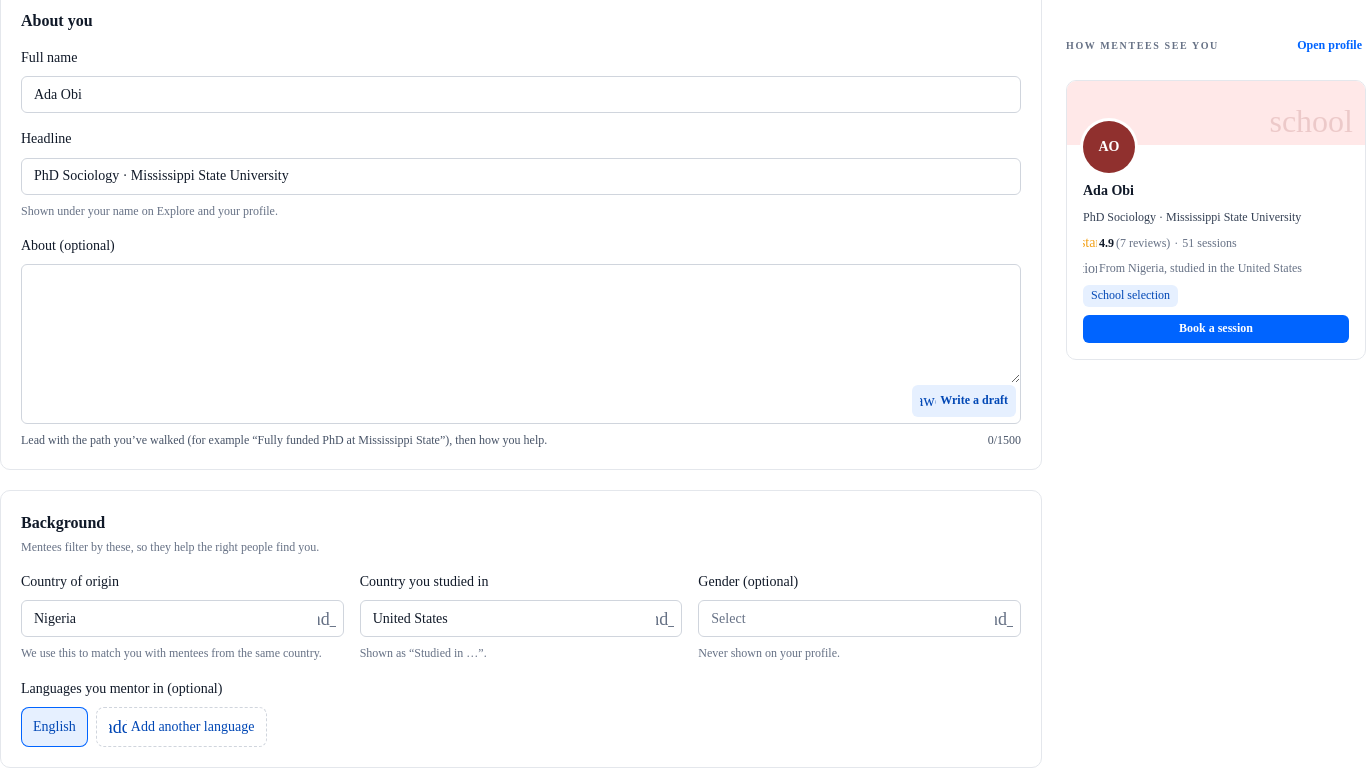
MentorProfilePanel › after Save the form keeps the saved values while the refetch is on its way
(page scrolled)
Click the dropdown named "Gender (optional)".
click(728, 618)  # box [698, 600, 1021, 637]
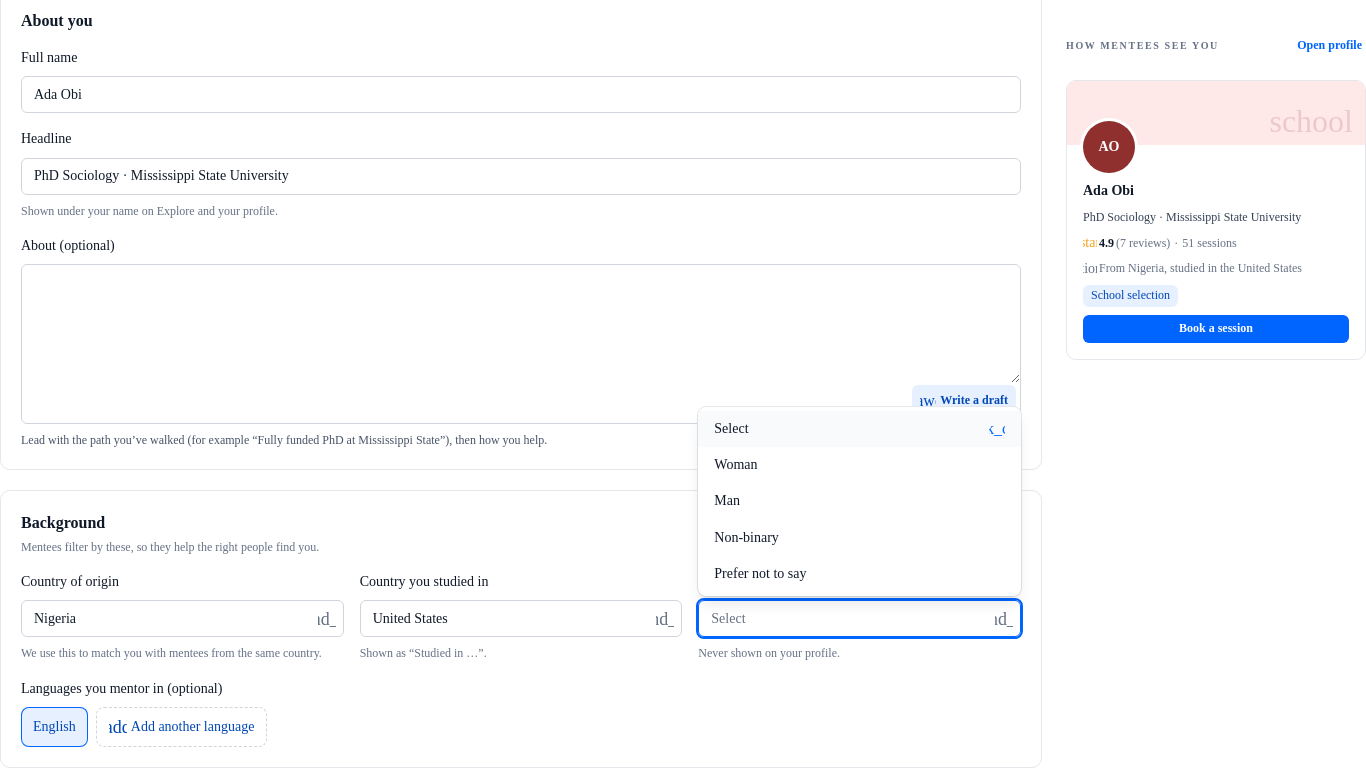
Click the option "Woman".
click(736, 464)  # box [714, 457, 758, 472]
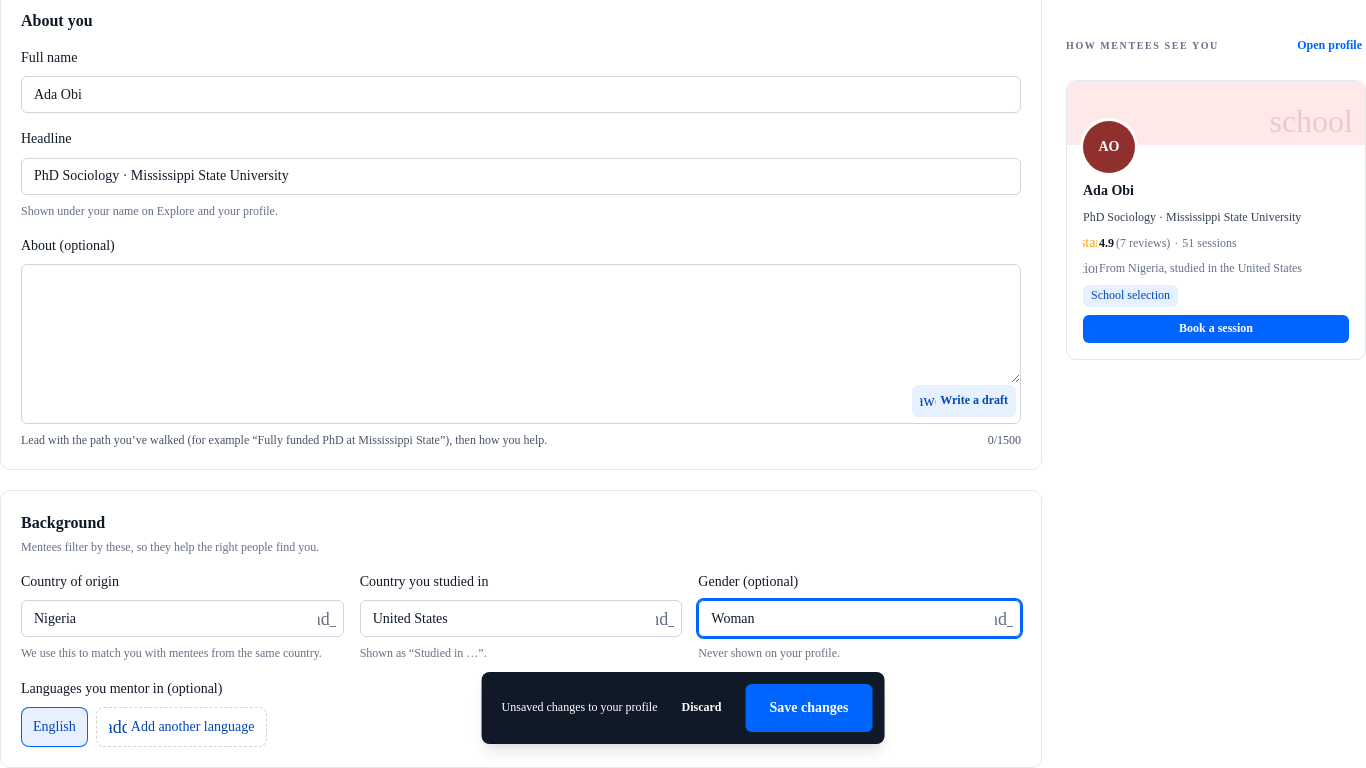
Click the button "Save changes".
click(809, 708)  # box [746, 684, 872, 732]
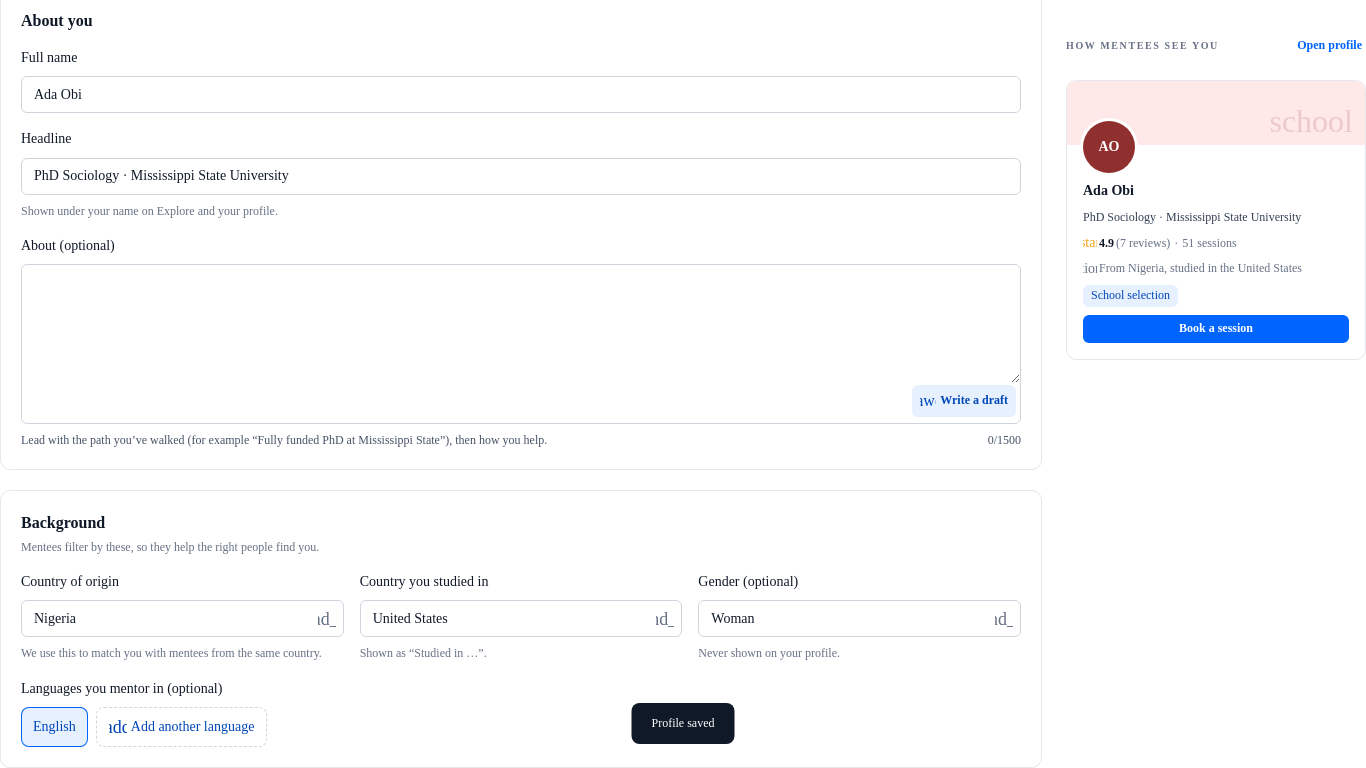
Expected: the dropdown named "Gender (optional)" holds "Woman", [698, 600, 1021, 637]
Now the text "Profile saved" is shown, box [632, 703, 734, 744]
Now the text "Unsaved changes" is gone
